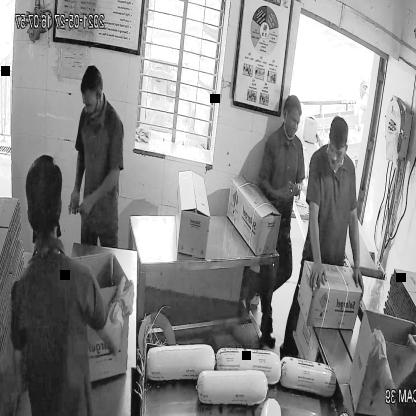no_goggles: (323, 140, 347, 162)
